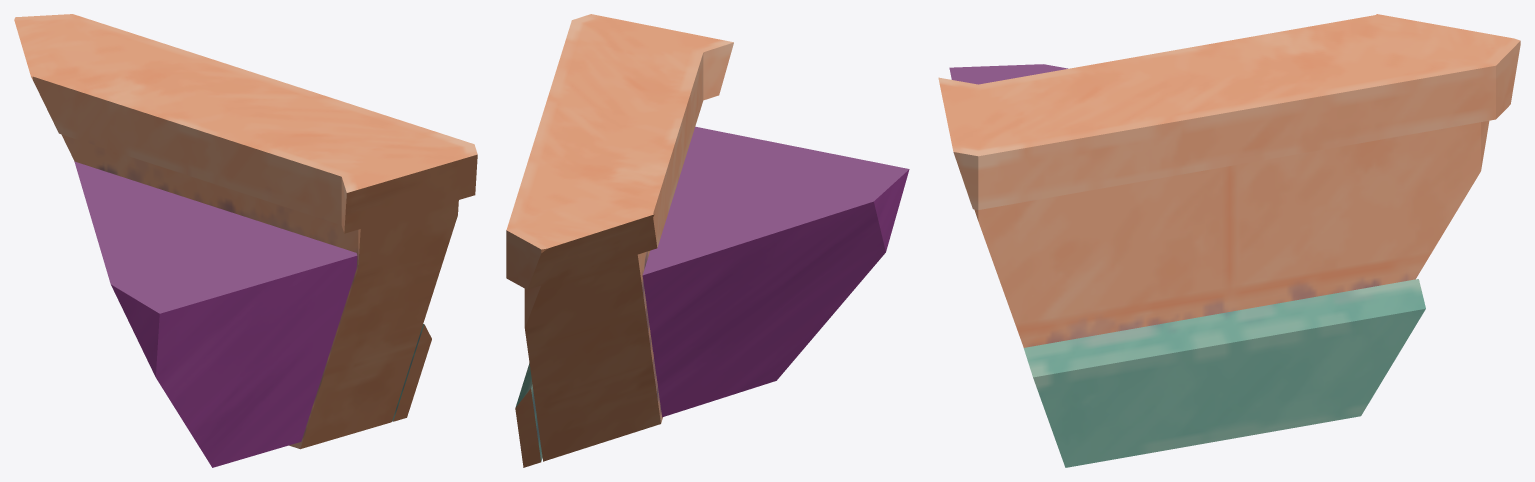
The model's file is vat_plum_s06.fbx.
3 views of the same model, side by side, from view 1: azimuth 30°, elevation 25°; view 2: azimuth 150°, elevation 25°; view 3: azimuth 270°, elevation 25° (orthographic). The views are drawn at different scales.
Parts seen in each view (by area): view 1: vat_plum_s06; view 2: vat_plum_s06; view 3: vat_plum_s06.
Part boxes in pixels (left/top/right/bottom): vat_plum_s06: left=14, top=14, right=477, bottom=467; vat_plum_s06: left=506, top=14, right=909, bottom=467; vat_plum_s06: left=938, top=14, right=1520, bottom=467.
Bounding box in the file's own units: 2.01 × 1.7 × 2.74.
